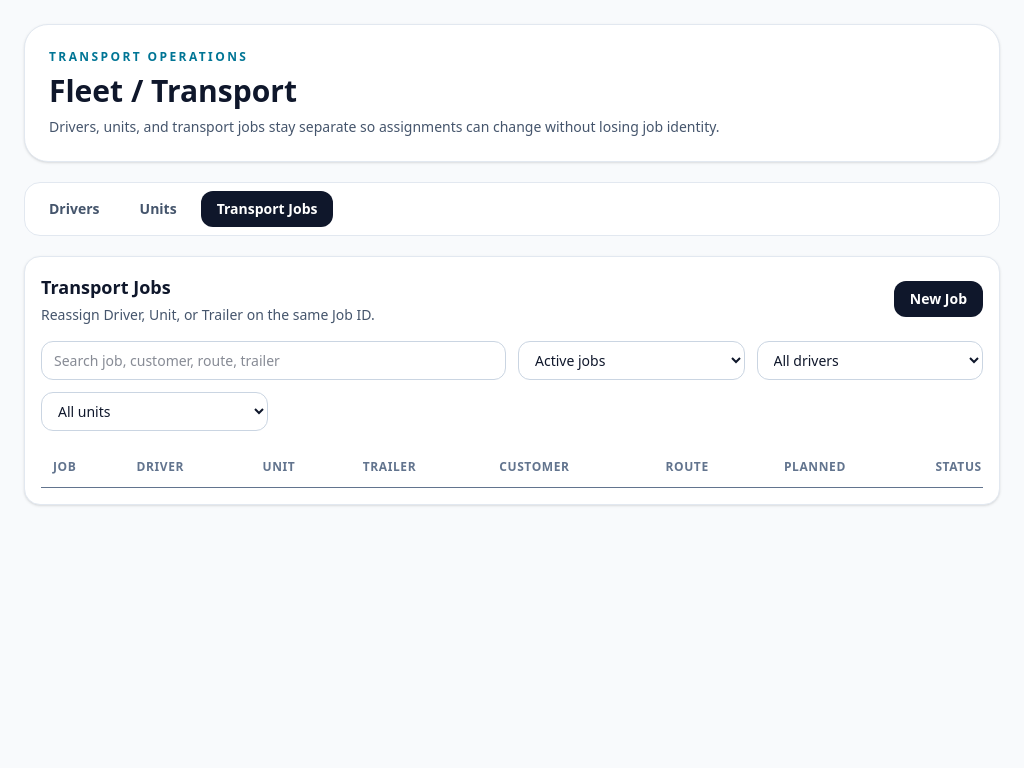
Fleet / Transport admin › keeps completed jobs available through the status filter
Expected: the heading "Transport Jobs" is shown, [41,275,171,299]
Expected: the text "JOB-001" is not shown
Select "All statuses" in the dropdown named "Job status" at [631, 360], box [518,341,744,380]
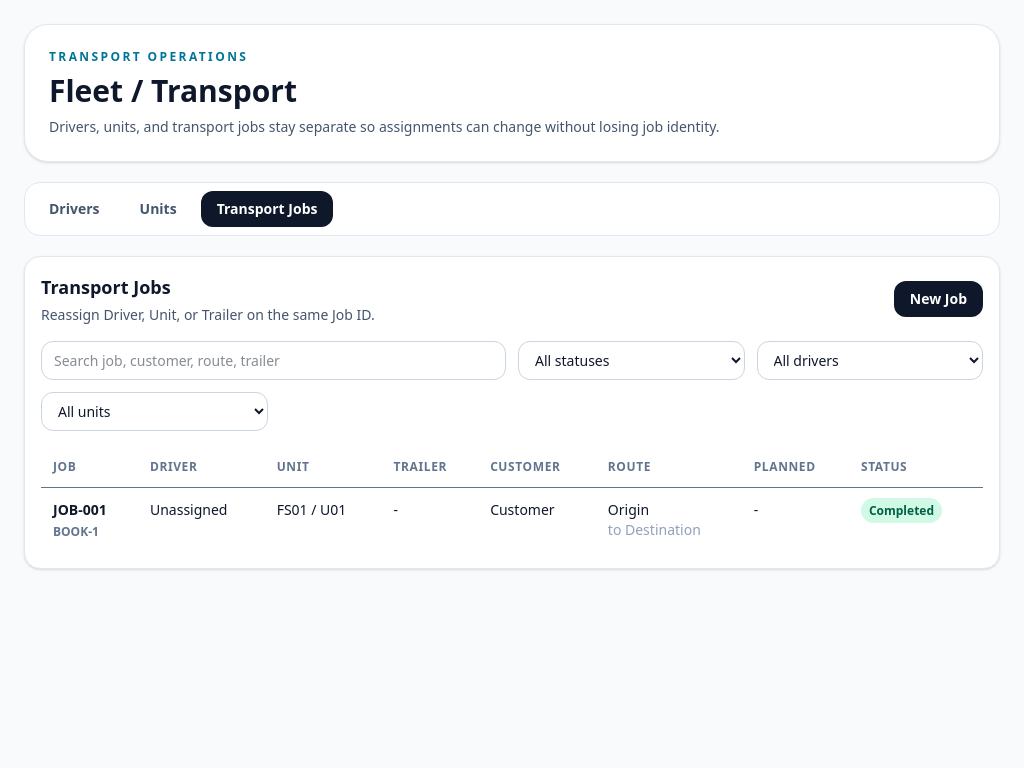
Result: the text "JOB-001" is shown at [53,500,107,519]
